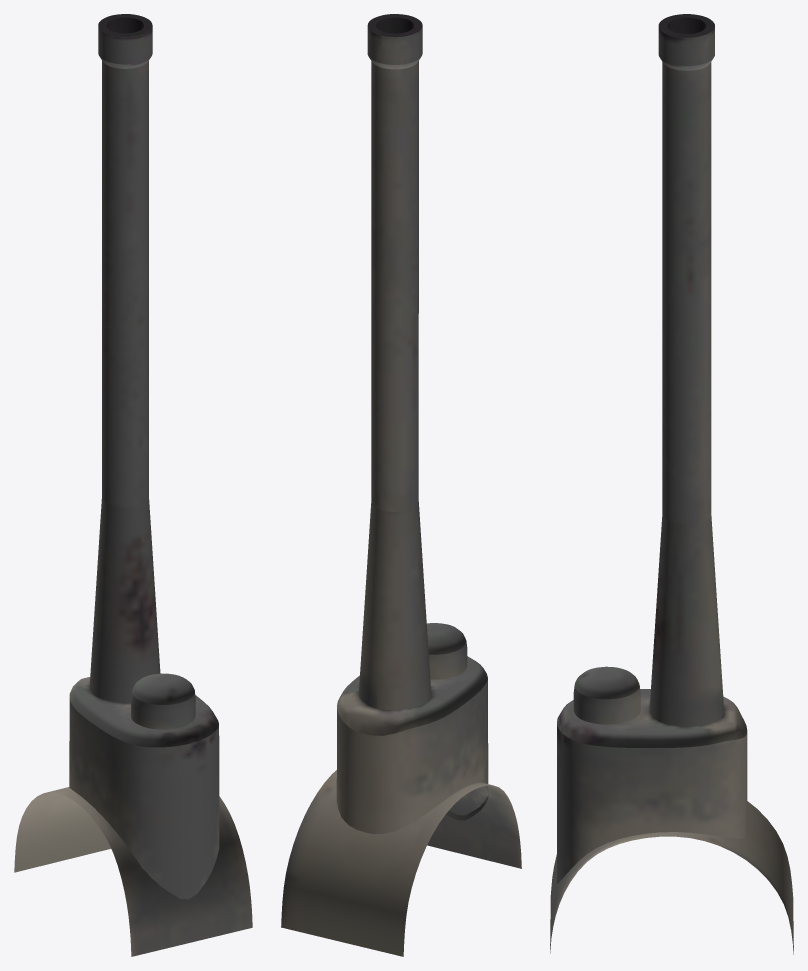
The model's file is Gun_01.glb.
3 renders of one model, left to right at view 1: azimuth 30°, elevation 25°; view 2: azimuth 150°, elevation 25°; view 3: azimuth 270°, elevation 25°, orthographic. The views are drawn at different scales.
Parts seen in each view (by area): view 1: set_0_group_0; view 2: set_0_group_0; view 3: set_0_group_0.
Boxes of the visible parts, <box> form: set_0_group_0: <box>14,14,252,956</box>; set_0_group_0: <box>281,14,521,956</box>; set_0_group_0: <box>550,14,793,954</box>.
Size of the model in its own units: 0.1954 by 1.34 by 0.33.
1 material, 1 textured.
